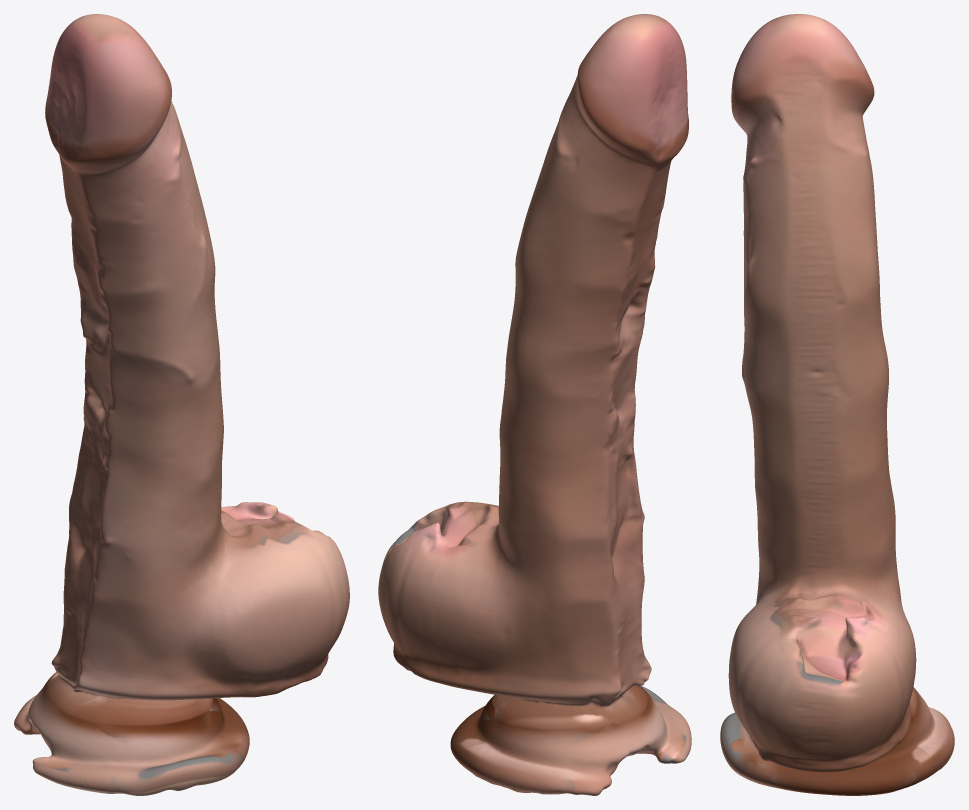
3 views of the same model, side by side, from view 1: azimuth 30°, elevation 25°; view 2: azimuth 150°, elevation 25°; view 3: azimuth 270°, elevation 25° (orthographic). The views are drawn at different scales.
Parts seen in each view (by area): view 1: tripo_node_57d17f96-d60f-4dcc-a53f-65156500193f; view 2: tripo_node_57d17f96-d60f-4dcc-a53f-65156500193f; view 3: tripo_node_57d17f96-d60f-4dcc-a53f-65156500193f.
Part boxes in pixels (x1,y1,x2,y2): tripo_node_57d17f96-d60f-4dcc-a53f-65156500193f: [14, 14, 349, 795]; tripo_node_57d17f96-d60f-4dcc-a53f-65156500193f: [378, 14, 691, 795]; tripo_node_57d17f96-d60f-4dcc-a53f-65156500193f: [720, 14, 954, 795].
Size of the model in its own units: 0.4184 by 1 by 0.298.
Materials: 1 (1 with a texture image).
